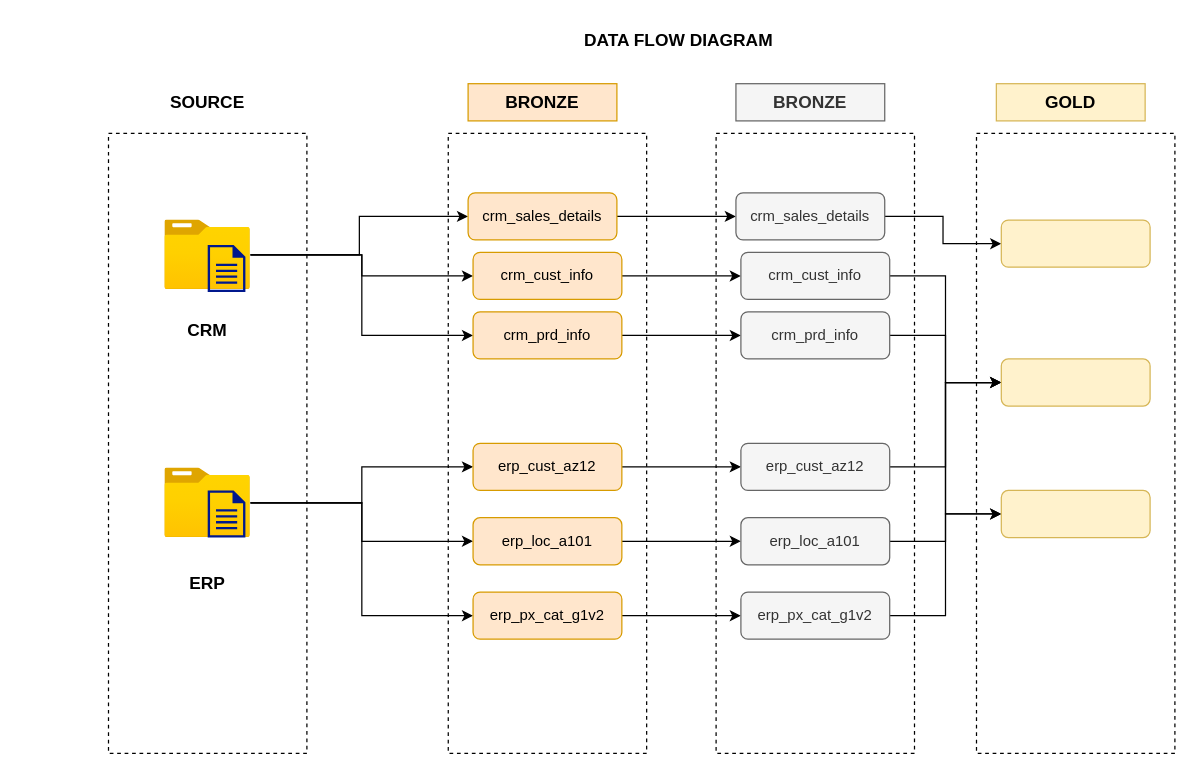
This 1197x775 diagram has some shape labels left out. Here are the shapes that lost their labels. From the top down, the box of each, then its label:
(1000, 219, 1150, 267): fact_sales
(1000, 358, 1150, 406): dim_customers
(1000, 489, 1150, 538): dim_products
